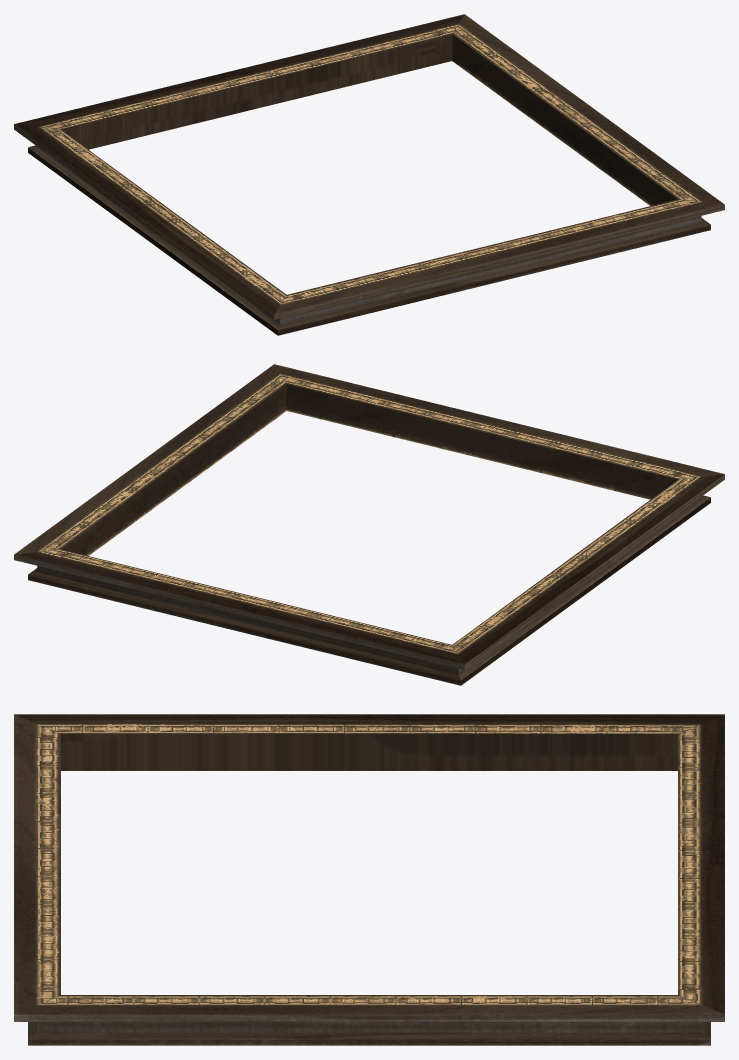
File: border.fbx
The picture shows the model from 3 angles, top to bottom: view 1: azimuth 30°, elevation 25°; view 2: azimuth 150°, elevation 25°; view 3: azimuth 270°, elevation 25°; orthographic projection. The views are drawn at different scales.
Parts seen in each view (by area): view 1: defaultMaterial; view 2: defaultMaterial; view 3: defaultMaterial.
Part boxes in pixels (x1,y1,x2,y2): defaultMaterial: (14,14,724,335); defaultMaterial: (14,364,724,685); defaultMaterial: (14,714,724,1045).
Size of the model in its own units: 200 by 11.46 by 200.
